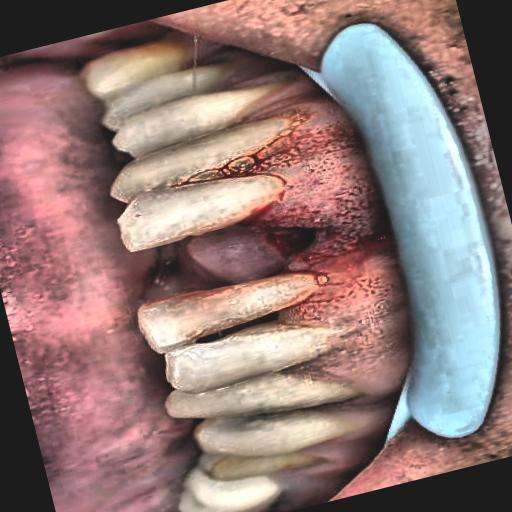Gingivitis: (190, 56, 442, 378)
